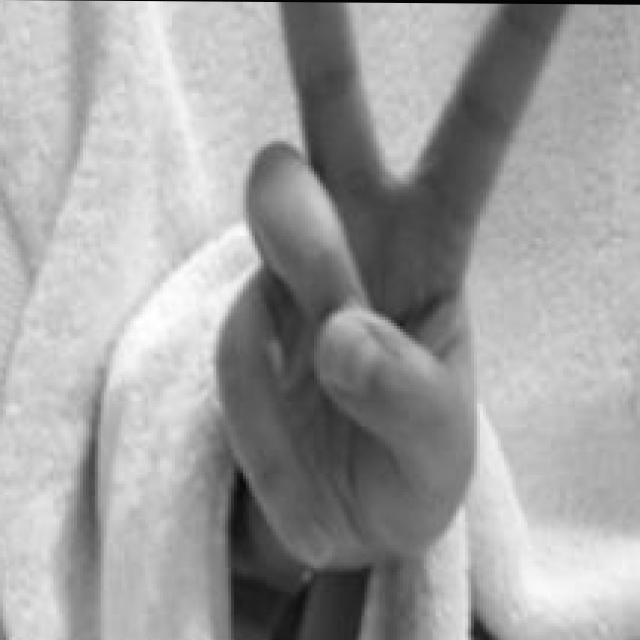V: (210, 2, 572, 579)
